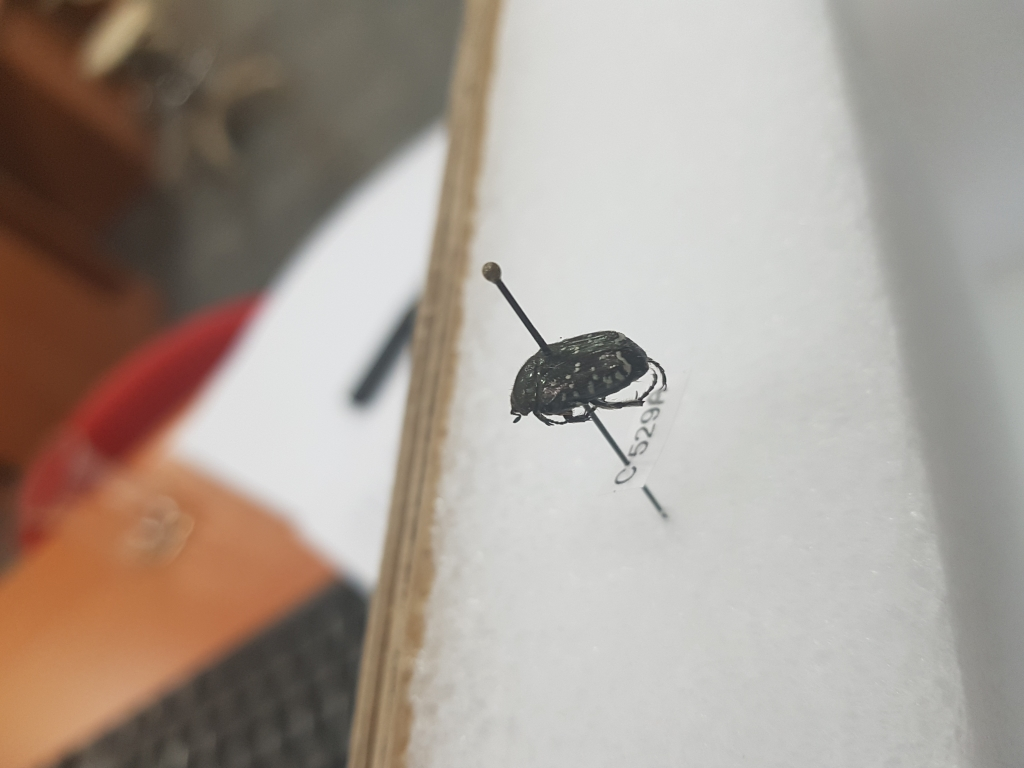Oxythyrea_funesta: (501, 325, 672, 425)
